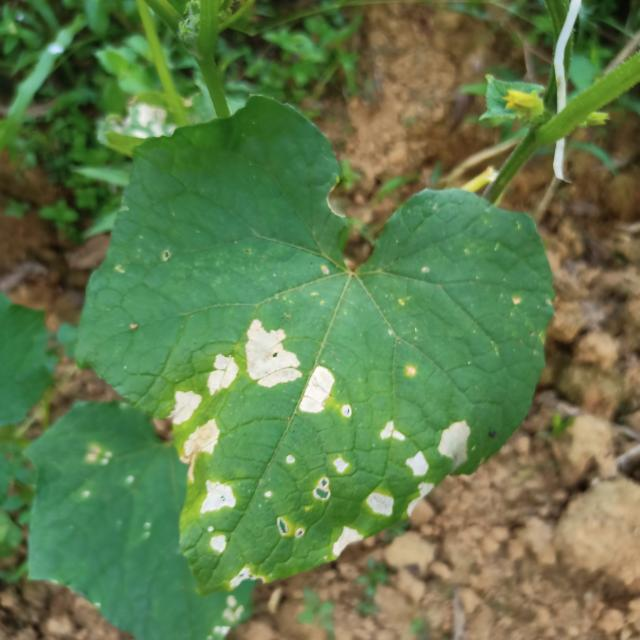disease_cucumber: (245, 317, 336, 414), (380, 417, 470, 477), (172, 391, 220, 459), (201, 479, 237, 557), (367, 481, 433, 516), (313, 454, 350, 502), (210, 355, 237, 395), (331, 524, 361, 558)
